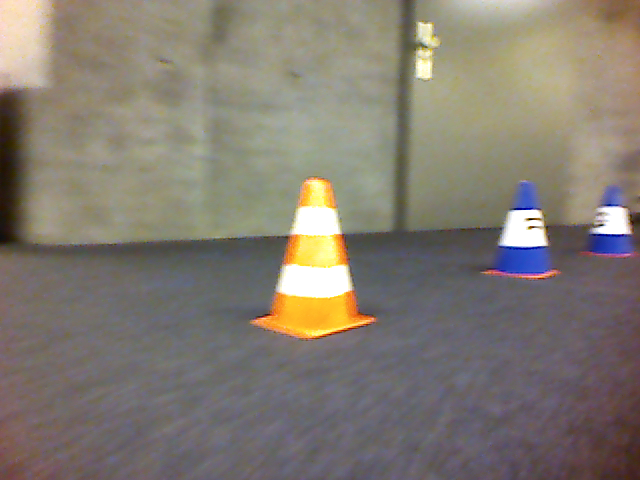bluecone: (481, 178, 564, 282)
orangeconesmall: (245, 176, 380, 343)
